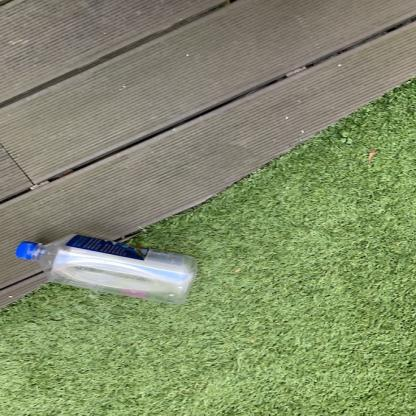trash: (17, 231, 204, 310)
